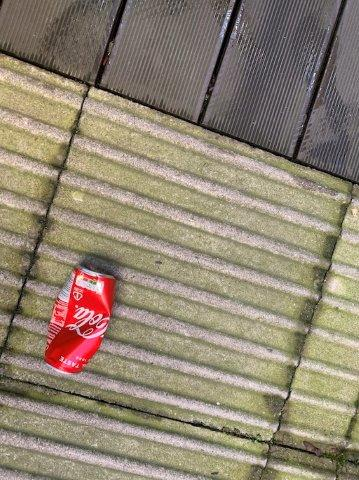kaleng: (45, 266, 115, 371)
